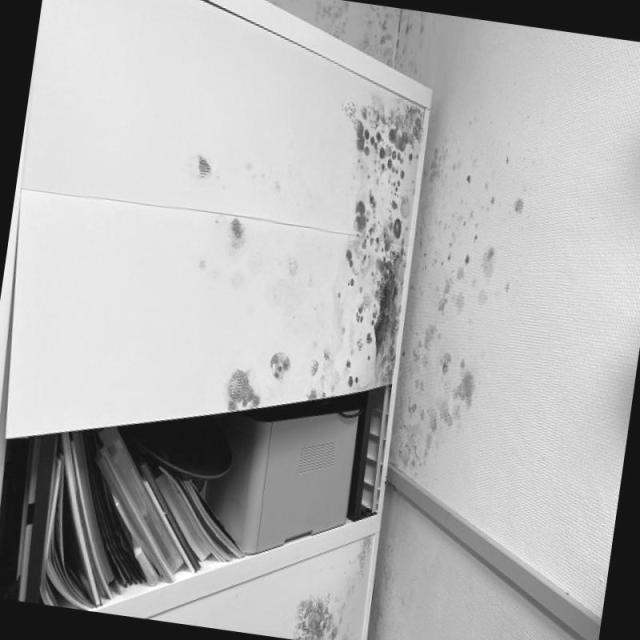stain marks: (184, 0, 532, 495), (282, 571, 364, 640)
